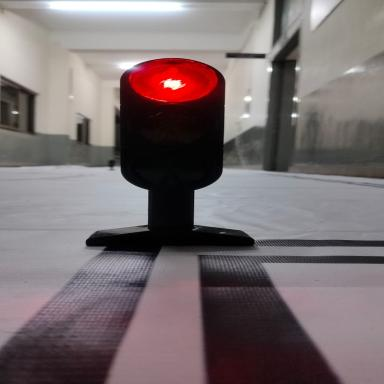traffic red: (68, 38, 313, 260)
